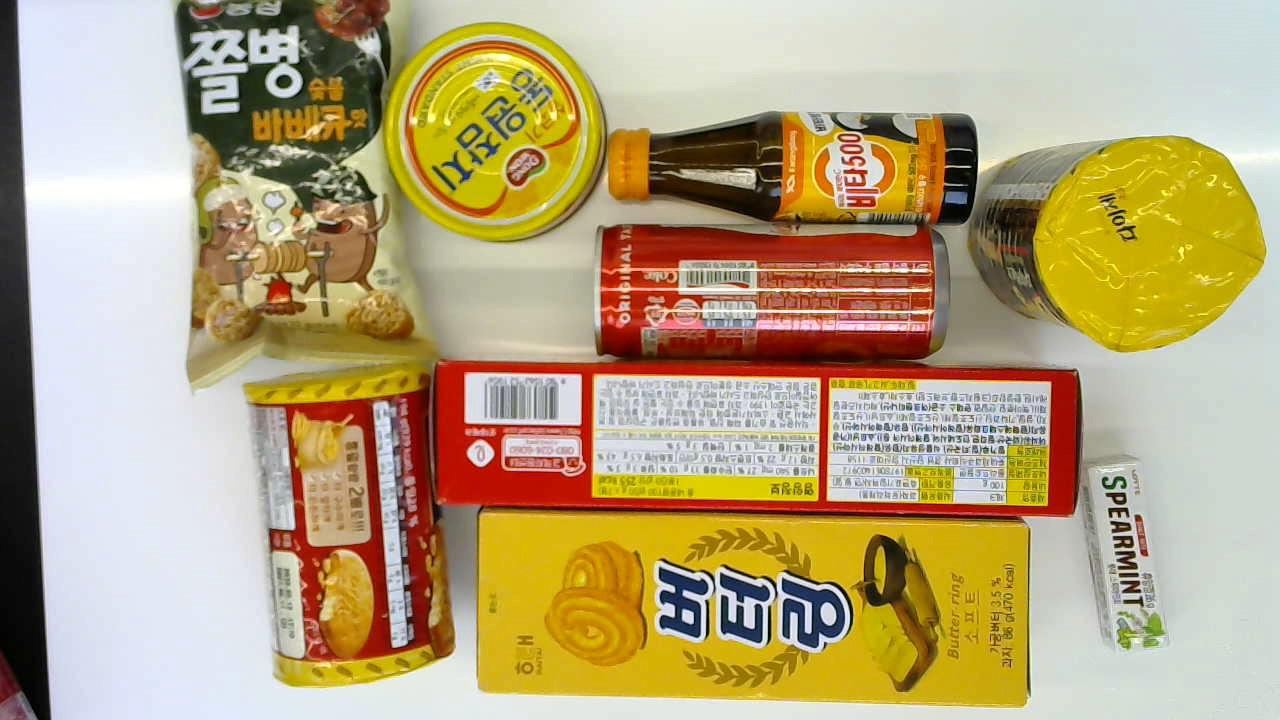buttering: (474, 516, 1046, 710)
coke: (587, 225, 947, 369)
diget_choco: (974, 136, 1268, 351)
diget_ori: (241, 360, 454, 686)
jjolbyung_ori: (181, 0, 443, 398)
spearmint: (1085, 452, 1173, 653)
tuna: (385, 25, 601, 242)
vita500: (607, 106, 979, 228)
zec: (434, 356, 1084, 518)
